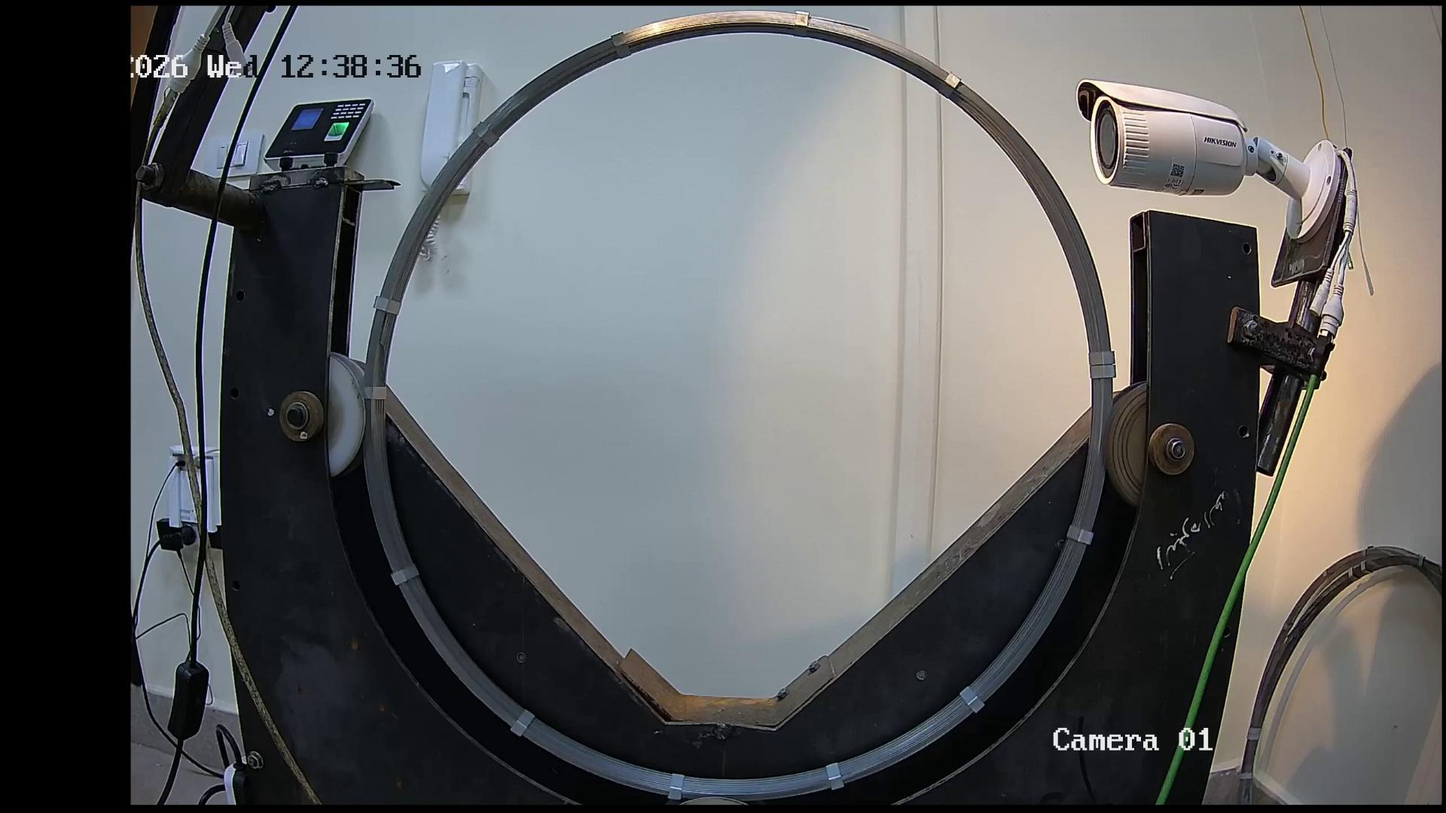clamp: (589, 26, 644, 68), (949, 679, 998, 721), (813, 758, 862, 798), (458, 119, 516, 152), (1079, 335, 1137, 367), (938, 55, 973, 104), (776, 9, 825, 43), (1066, 508, 1096, 561), (663, 760, 695, 807), (392, 544, 420, 593), (367, 295, 414, 324), (510, 693, 538, 740), (1081, 365, 1130, 390), (358, 384, 405, 408)
